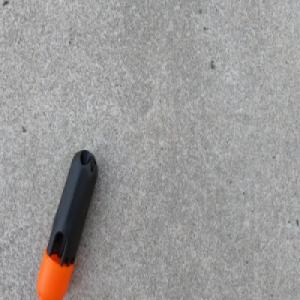PlasticPart: (35, 148, 99, 300)
